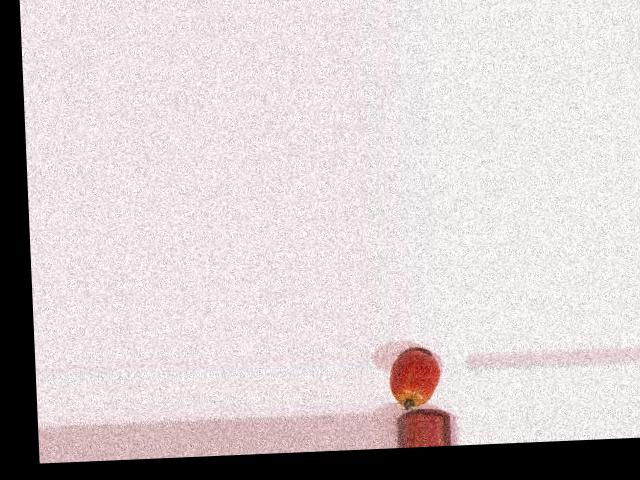tomato: (389, 350, 441, 408)
